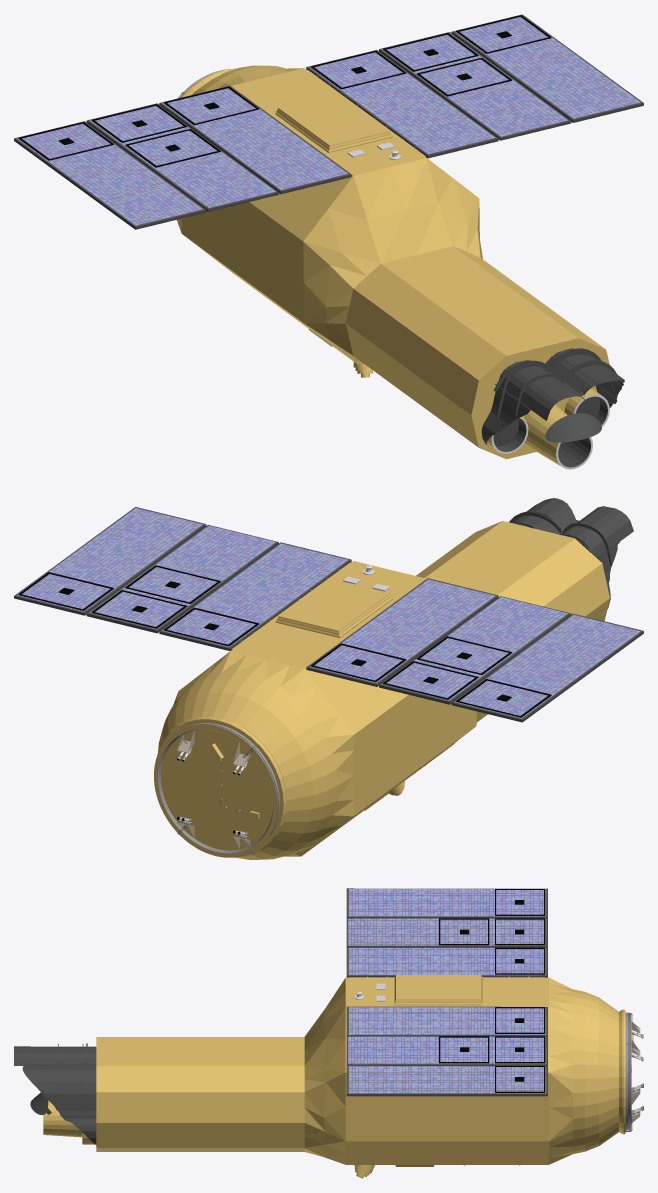
The model's file is suzaku.glb.
The picture shows the model from 3 angles, top to bottom: view 1: azimuth 30°, elevation 25°; view 2: azimuth 150°, elevation 25°; view 3: azimuth 270°, elevation 25°; orthographic projection. The views are drawn at different scales.
Visible parts, largest first — view 1: Layer_0; view 2: Layer_0; view 3: Layer_0.
Part boxes in pixels (x1,y1,x2,y2): Layer_0: [14, 14, 643, 469]; Layer_0: [14, 498, 643, 859]; Layer_0: [14, 888, 643, 1178].
Bounding box in the file's own units: 5.22 × 2.16 × 6.75.
